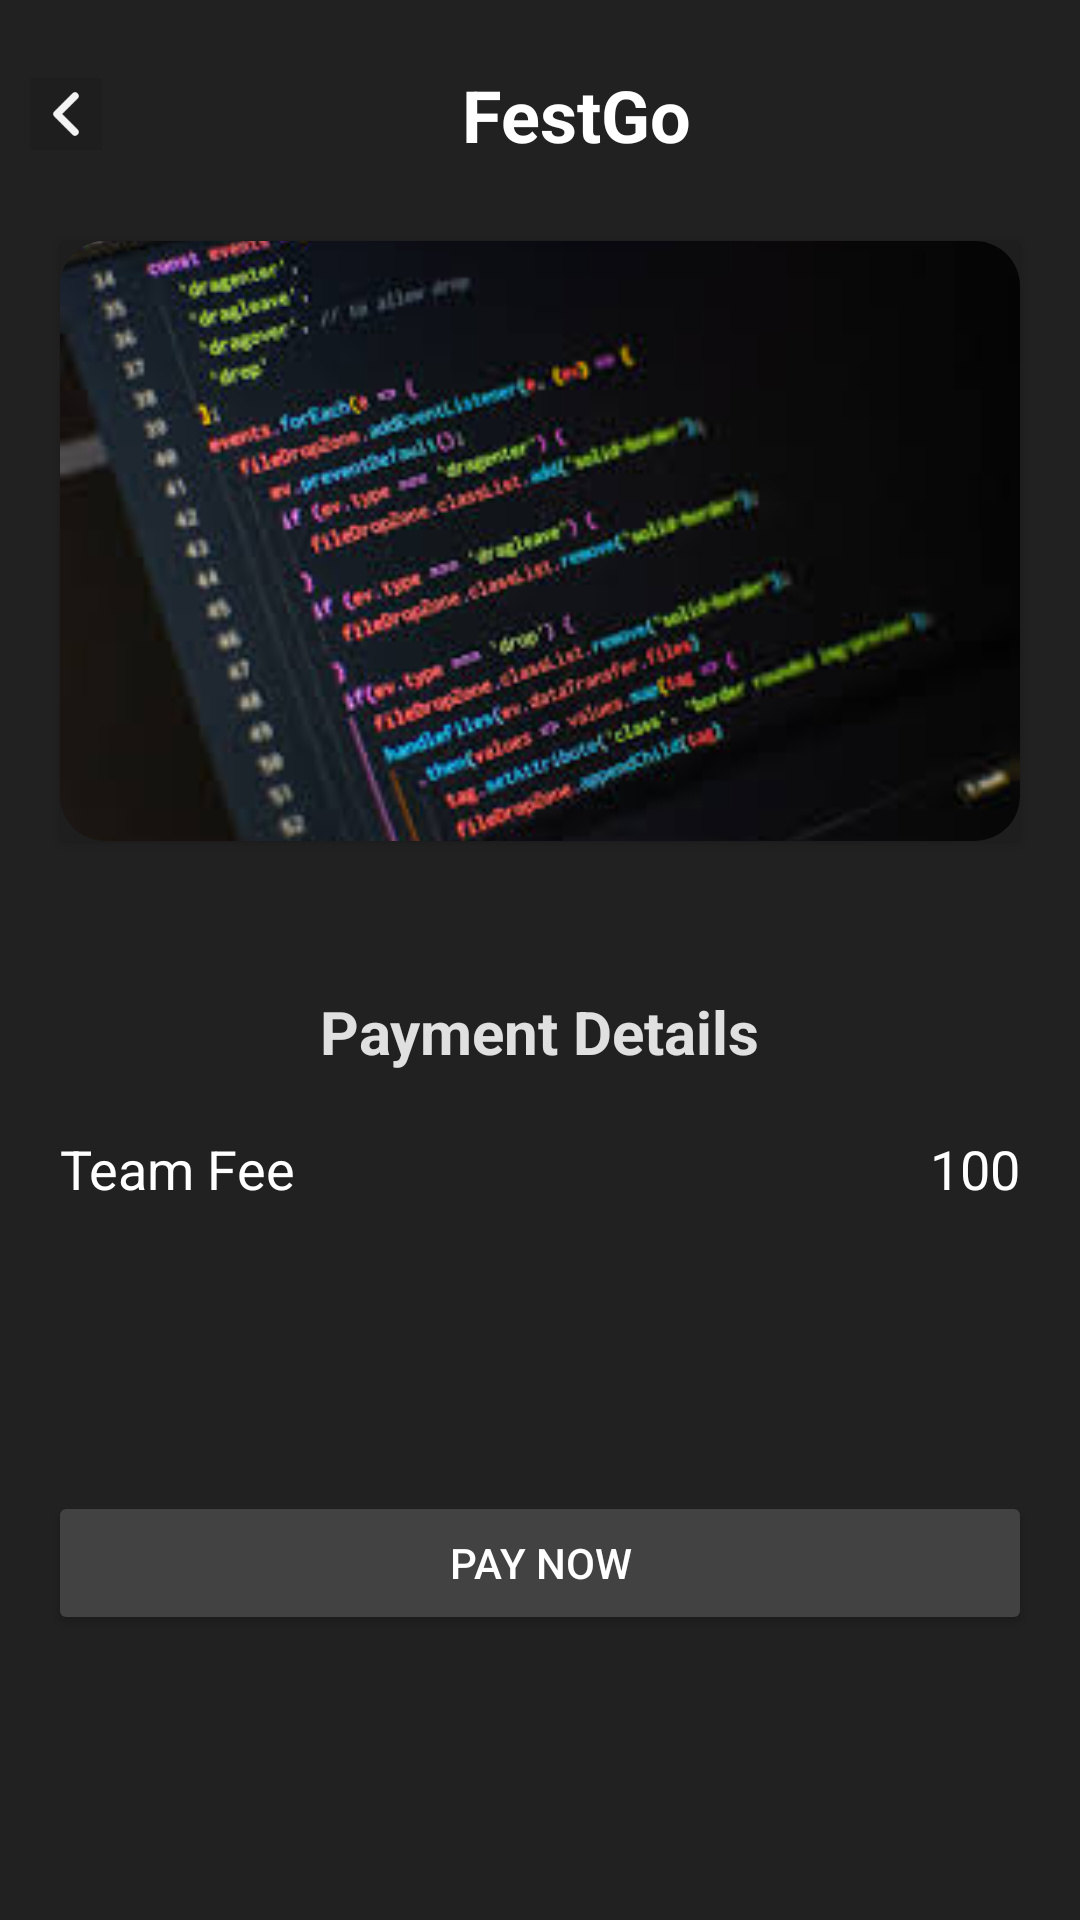

Icon bounding boxes for this 1080 x 1920 phone screenshot, format [left=x1, top=y1, right=x2, bottom=y2]:
back: [left=53, top=92, right=79, bottom=136]
